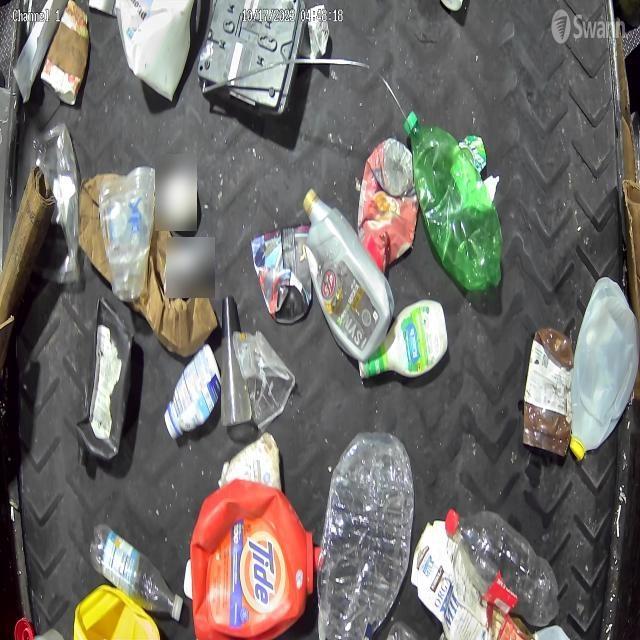milk_jug: (572, 275, 638, 455)
non_white_jug: (189, 482, 315, 640), (302, 186, 395, 364), (76, 294, 136, 468)
plastic_bottle: (446, 506, 560, 618), (88, 522, 184, 622)
